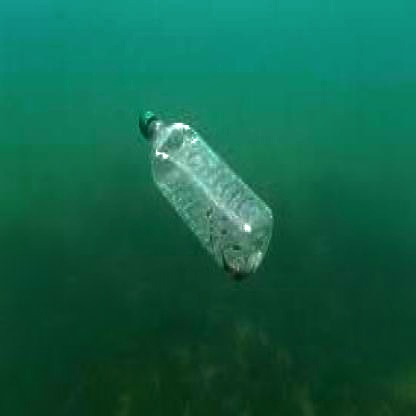pbottle: (133, 93, 277, 284)
